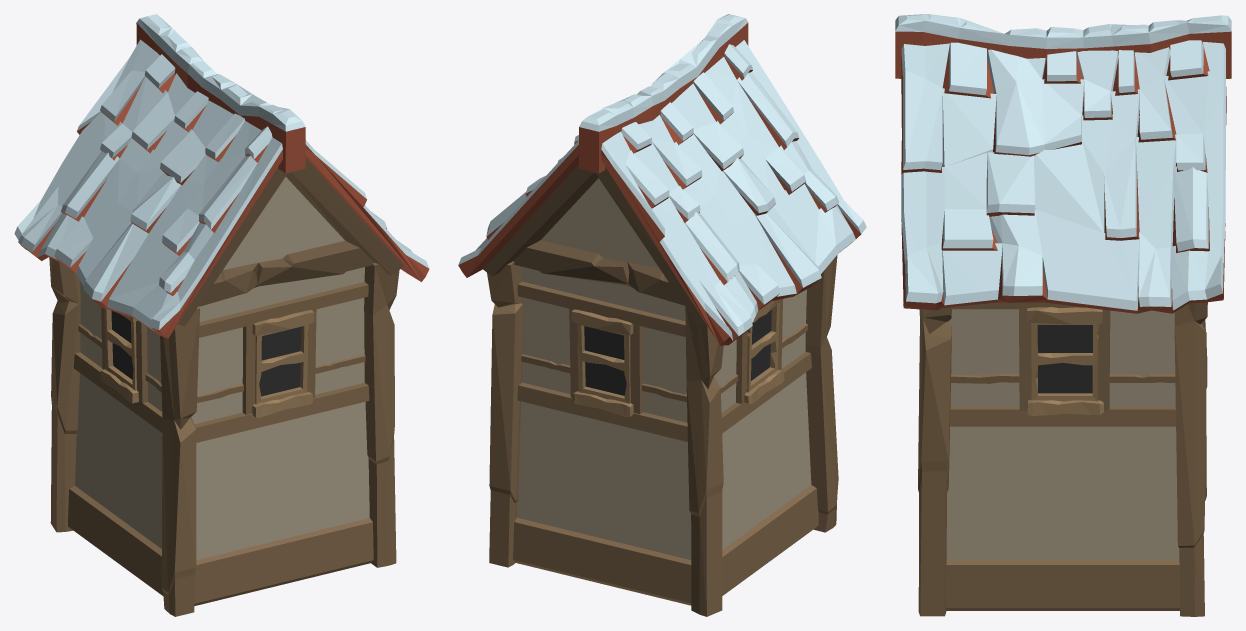
File: SM_Bld_House_RoomTall_01_Snow.gltf
3 renders of one model, left to right at view 1: azimuth 30°, elevation 25°; view 2: azimuth 150°, elevation 25°; view 3: azimuth 270°, elevation 25°, orthographic. The views are drawn at different scales.
Parts seen in each view (by area): view 1: SM_Bld_House_RoomTall_01_Snow; view 2: SM_Bld_House_RoomTall_01_Snow; view 3: SM_Bld_House_RoomTall_01_Snow.
Boxes of the visible parts, box(x1,y1,x2,y2) form: SM_Bld_House_RoomTall_01_Snow: box(14, 14, 429, 616); SM_Bld_House_RoomTall_01_Snow: box(458, 14, 866, 616); SM_Bld_House_RoomTall_01_Snow: box(895, 14, 1231, 616).
Size of the model in its own units: 3.6 by 5.75 by 3.26.
1 material, 1 textured.
